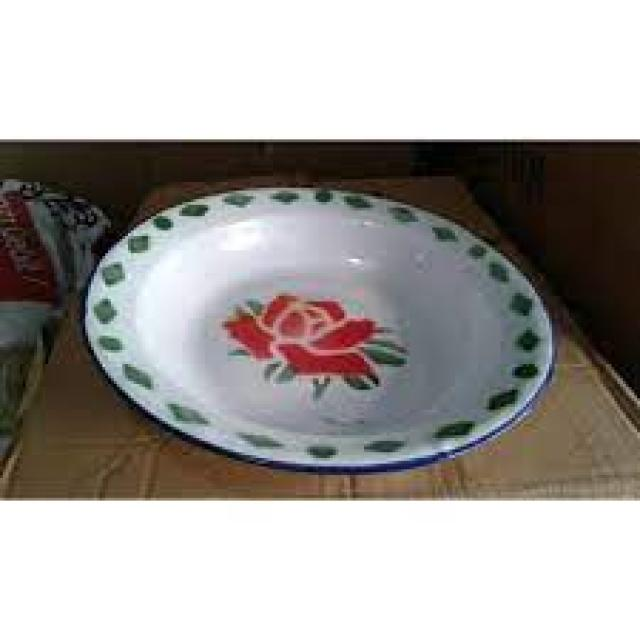Plate: (68, 165, 571, 482)
